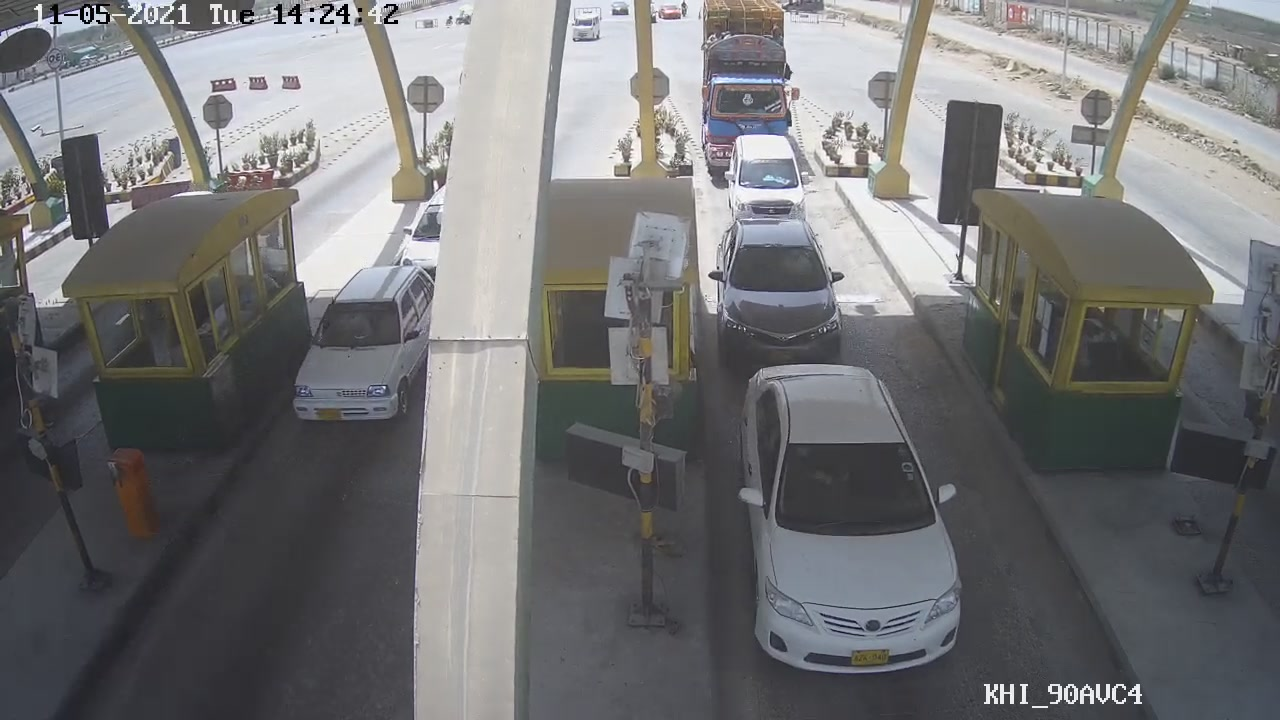F1: (727, 363, 972, 674)
